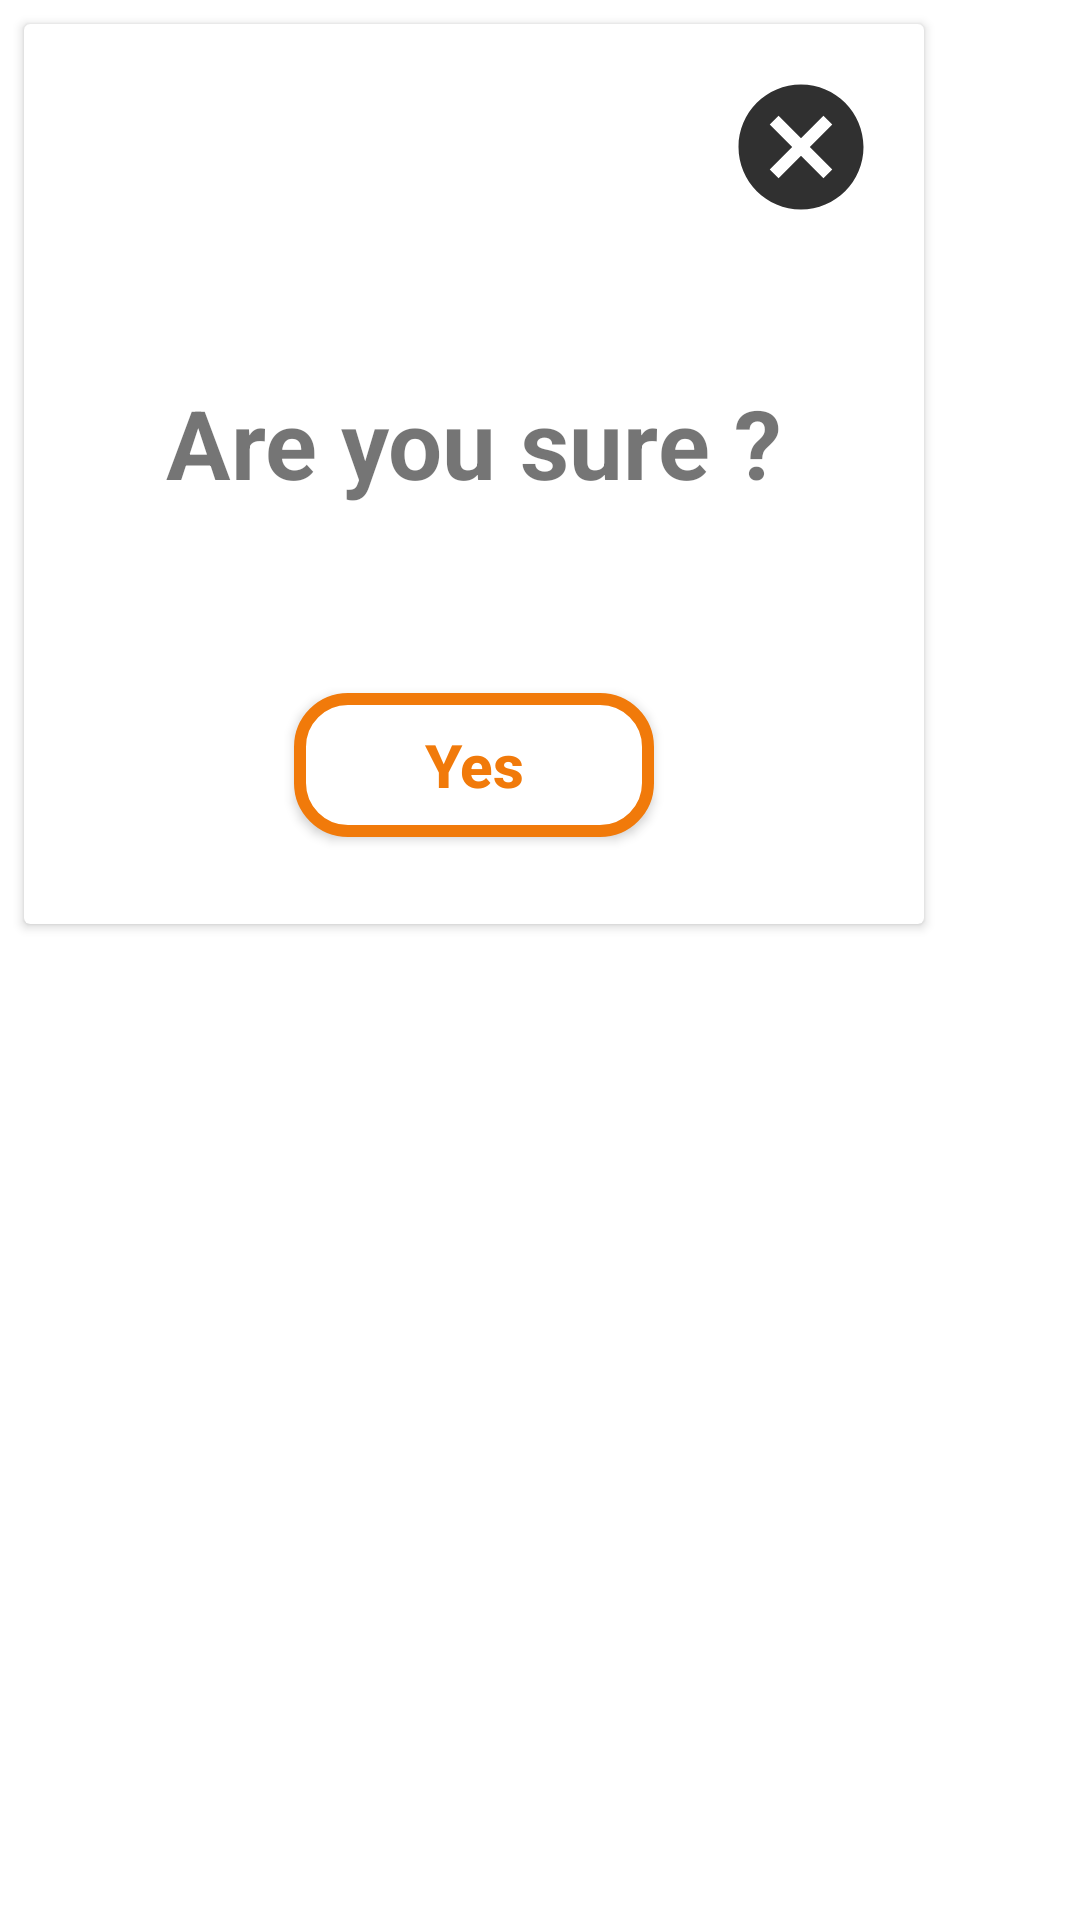

Icons on this 1080×1920 Android screen, each with the point to tap as [x,y]:
cancel: [801,147]
